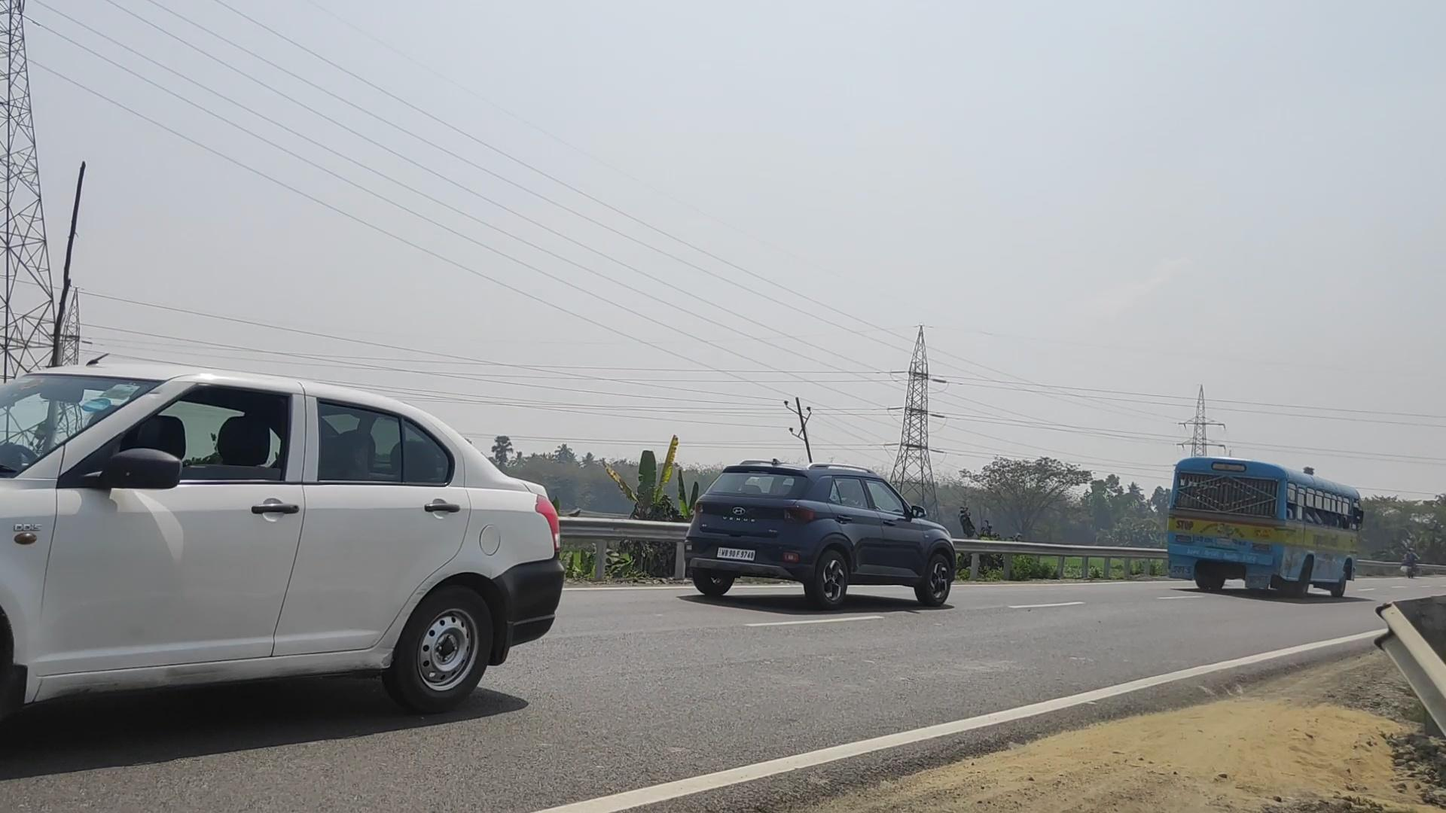Bus: (1167, 456, 1364, 601)
car: (3, 361, 564, 743), (683, 458, 956, 612)
